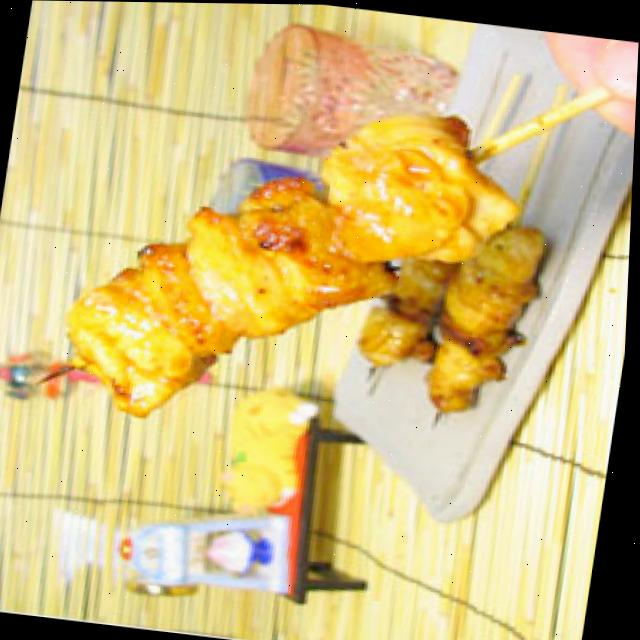烧串烤肉: (13, 27, 591, 464)
